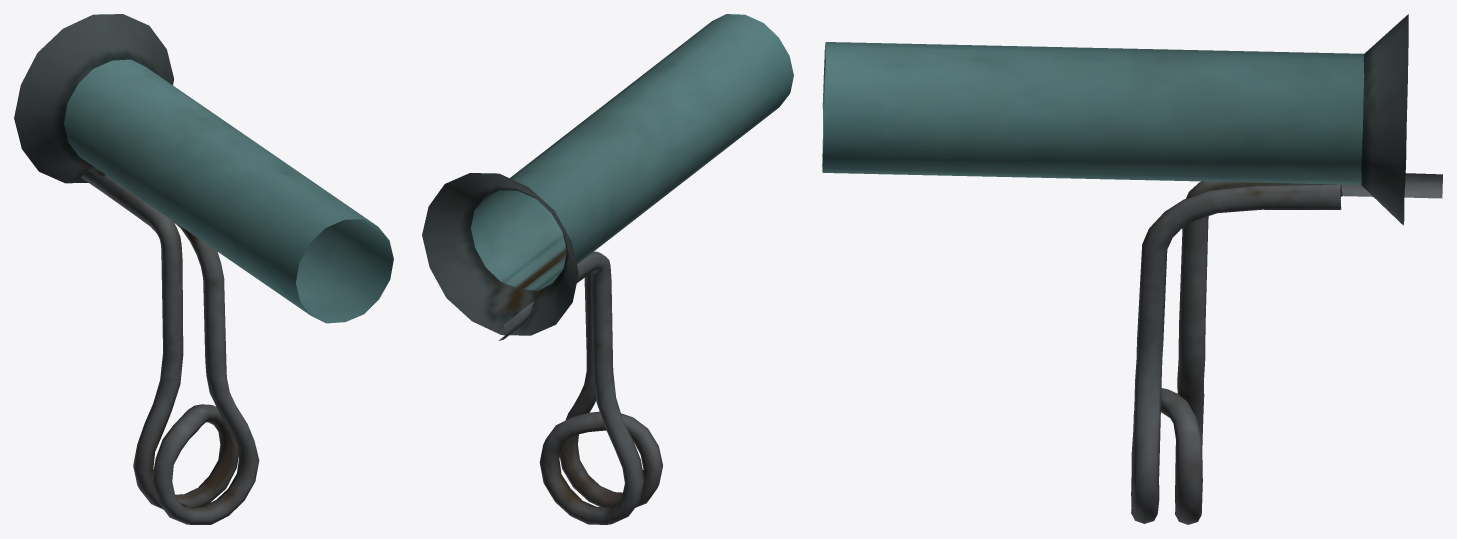
The model's file is pole_line2_base.fbx.
The picture shows the model from 3 angles, left to right: view 1: azimuth 30°, elevation 25°; view 2: azimuth 150°, elevation 25°; view 3: azimuth 270°, elevation 25°; orthographic projection. The views are drawn at different scales.
Visible parts, largest first — view 1: spining01.008; view 2: spining01.008; view 3: spining01.008.
Boxes of the visible parts, box(x1,y1,x2,y2) form: spining01.008: box(14, 14, 393, 524); spining01.008: box(422, 14, 793, 524); spining01.008: box(822, 14, 1442, 524).
Bounding box in the file's own units: 1.6 × 4.08 × 4.62.
Materials: 1 (1 with a texture image).
